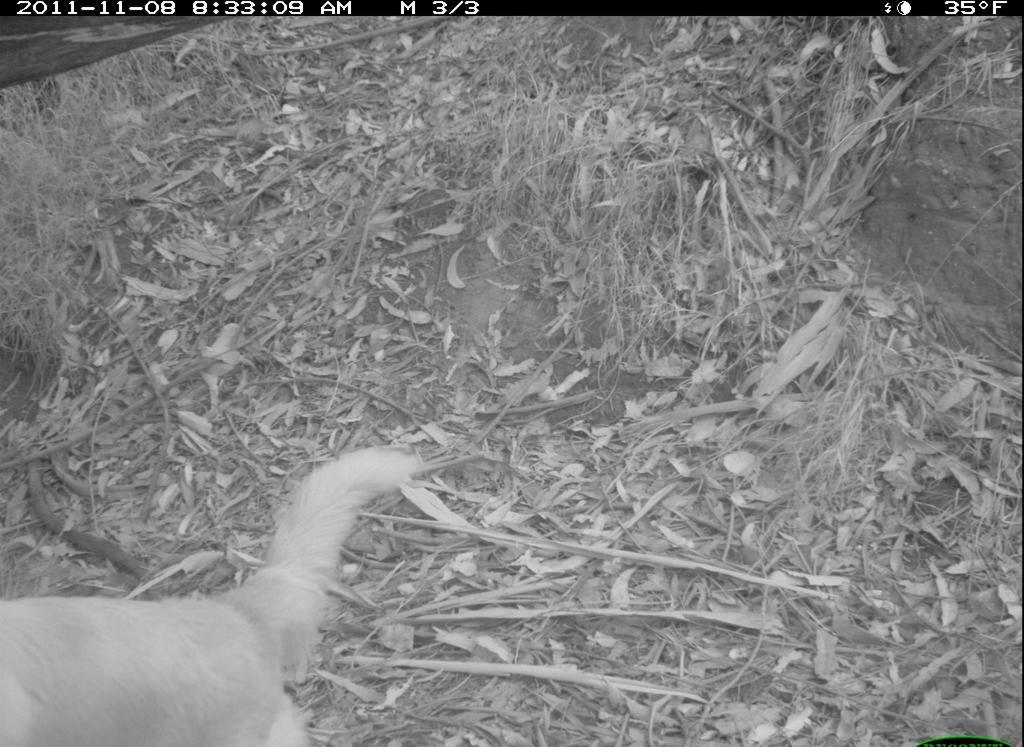dog: (3, 429, 446, 745)
